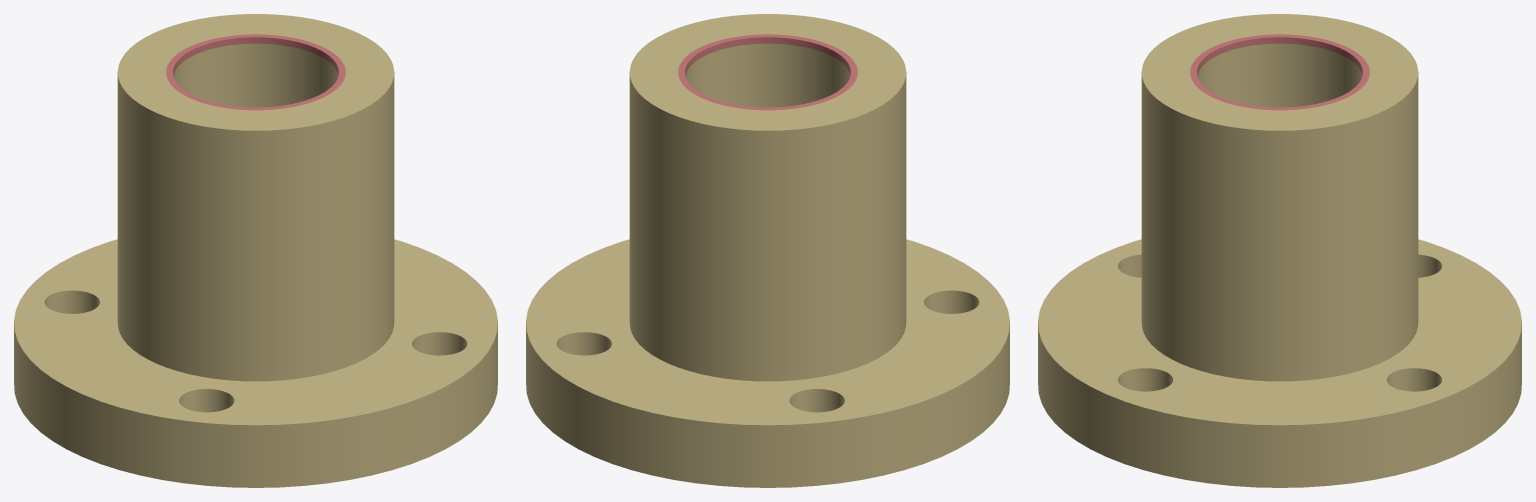
The model's file is step_08.glb.
3 renders of one model, left to right at view 1: azimuth 30°, elevation 25°; view 2: azimuth 150°, elevation 25°; view 3: azimuth 270°, elevation 25°, orthographic.
Visible parts, largest first — view 1: part__flanged bush, removed__flanged bush; view 2: part__flanged bush, removed__flanged bush; view 3: part__flanged bush, removed__flanged bush.
Part boxes in pixels (<box>): part__flanged bush: <box>14,14,497,487</box>; removed__flanged bush: <box>166,34,345,110</box>; part__flanged bush: <box>526,14,1009,487</box>; removed__flanged bush: <box>678,34,857,110</box>; part__flanged bush: <box>1038,14,1521,487</box>; removed__flanged bush: <box>1190,34,1369,110</box>.
Bounding box in the file's own units: 69.96 × 50 × 69.98.
